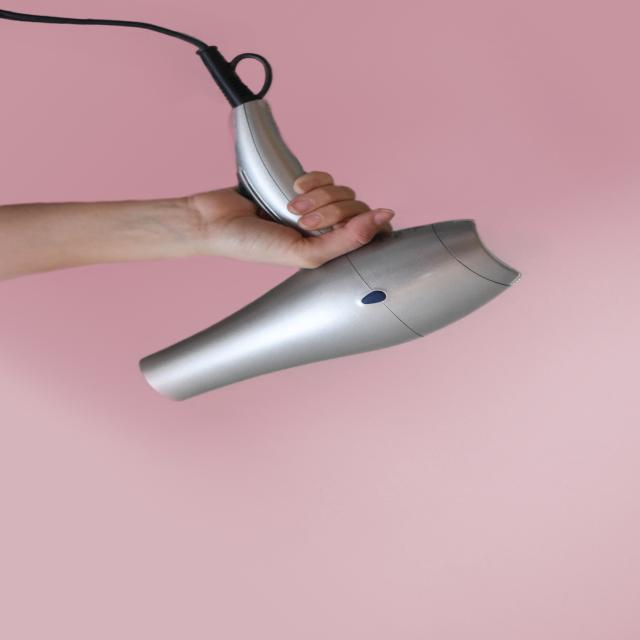dryer: (135, 47, 525, 406)
